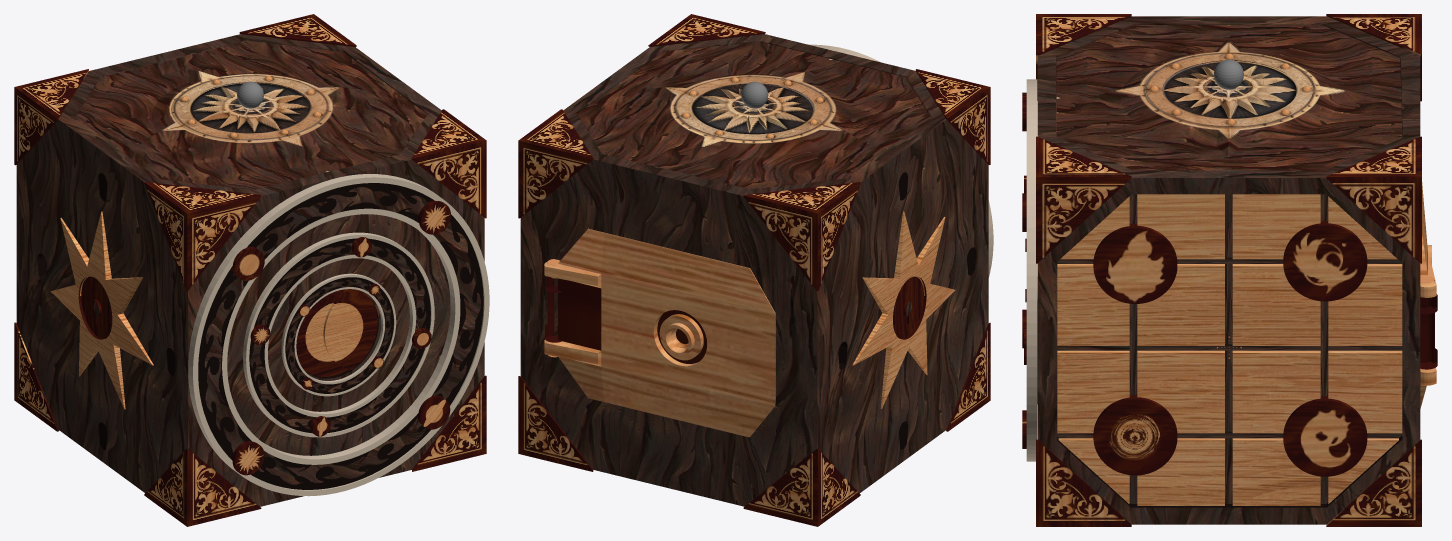
The picture shows the model from 3 angles, left to right: view 1: azimuth 30°, elevation 25°; view 2: azimuth 150°, elevation 25°; view 3: azimuth 270°, elevation 25°; orthographic projection. The views are drawn at different scales.
Parts seen in each view (by area): view 1: Cube, exit, key1, key2, star, corner8, key3, corner7, corner2, corner5, open2, corner4 (+4 smaller); view 2: Cube, door, exit, star, corner5, corner6, corner1, corner8, corner3, corner7, corner2, key1 (+1 smaller); view 3: panel, exit, Cube, corner2, corner1, water, wind, earth, fire, key1, corner4, corner3 (+4 smaller).
Part boxes in pixels (box(x1,y1,x2,y2)): Cube: box(16, 34, 484, 506); exit: box(75, 40, 427, 189); key1: box(188, 174, 489, 496); key2: box(243, 232, 434, 437); star: box(50, 211, 153, 409); corner8: box(144, 182, 261, 290); key3: box(281, 273, 396, 396); corner7: box(144, 448, 261, 526); corner2: box(411, 109, 486, 218); corner5: box(14, 69, 88, 165); open2: box(323, 289, 377, 369); corner4: box(412, 375, 486, 471); Cube: box(520, 34, 988, 506); door: box(544, 228, 775, 437); exit: box(577, 41, 930, 189); star: box(852, 211, 955, 408); corner5: box(743, 182, 860, 290); corner6: box(743, 448, 860, 526); corner1: box(518, 109, 593, 218); corner8: box(915, 69, 990, 164); corner3: box(518, 376, 593, 471); corner7: box(946, 322, 990, 431); corner2: box(648, 14, 765, 46); key1: box(809, 44, 993, 277); panel: box(1057, 194, 1402, 505); exit: box(1056, 25, 1402, 171); Cube: box(1037, 16, 1420, 524); corner2: box(1036, 136, 1131, 263); corner1: box(1326, 136, 1421, 263); water: box(1283, 396, 1367, 476); wind: box(1283, 221, 1367, 301); earth: box(1093, 395, 1177, 475); fire: box(1093, 223, 1177, 303); key1: box(1022, 79, 1037, 461); corner4: box(1036, 439, 1131, 526); corner3: box(1326, 439, 1421, 526).
Bounding box in the file's own units: 2.06 × 2.22 × 2.17.
43 materials, 38 textured.
